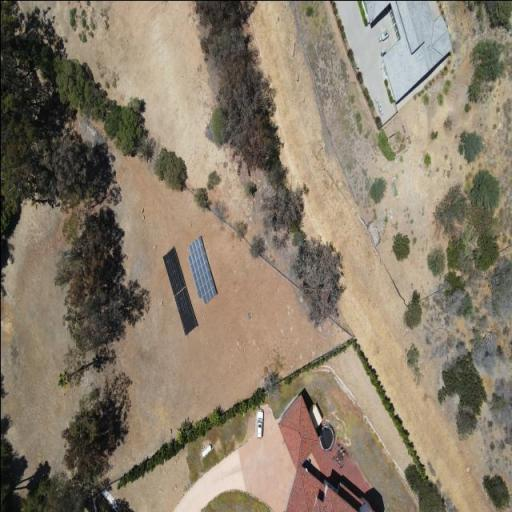solar-panel: (187, 235, 216, 304)
